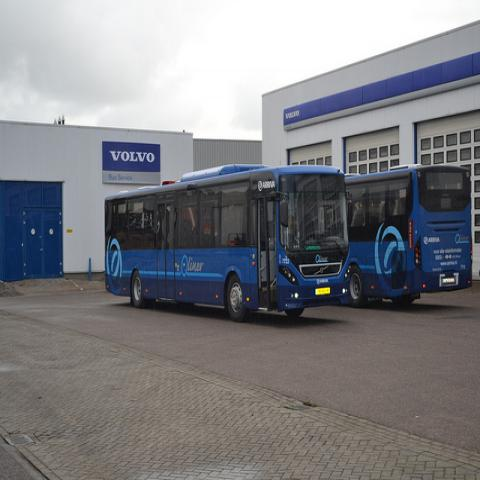bus: (106, 168, 351, 321), (343, 164, 471, 310)
